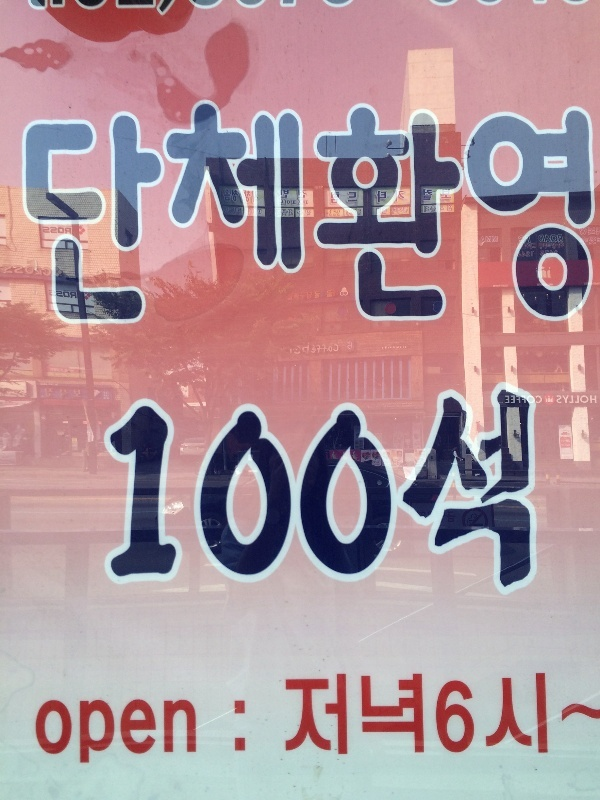text: (33, 99, 48, 330), (49, 99, 64, 330), (65, 99, 80, 330), (81, 99, 96, 330), (97, 99, 112, 330), (113, 99, 128, 330), (129, 99, 144, 330), (145, 99, 160, 330), (161, 99, 176, 330), (177, 99, 192, 330), (193, 99, 208, 330), (209, 99, 224, 330), (225, 99, 240, 330), (241, 99, 256, 330), (257, 99, 272, 330), (273, 99, 288, 330), (289, 99, 304, 330), (305, 99, 320, 330), (321, 99, 336, 330), (337, 99, 352, 330), (353, 99, 368, 330), (369, 99, 384, 330), (385, 99, 400, 330), (401, 99, 416, 330), (417, 99, 432, 330), (433, 99, 448, 330), (449, 99, 464, 330), (465, 99, 480, 330), (481, 99, 496, 330), (497, 99, 512, 330), (513, 99, 528, 330), (529, 99, 544, 330), (545, 99, 560, 330), (561, 99, 576, 330), (577, 99, 592, 330), (113, 380, 128, 597), (129, 380, 144, 597), (145, 380, 160, 597), (161, 380, 176, 597), (177, 380, 192, 597), (193, 380, 208, 597), (209, 380, 224, 597), (225, 380, 240, 597), (241, 380, 256, 597), (257, 380, 272, 597), (273, 380, 288, 597), (289, 380, 304, 597), (305, 380, 320, 597), (321, 380, 336, 597), (337, 380, 352, 597), (353, 380, 368, 597), (369, 380, 384, 597), (385, 380, 400, 597), (401, 380, 416, 597), (417, 380, 432, 597), (433, 380, 448, 597), (449, 380, 464, 597), (465, 380, 480, 597), (481, 380, 496, 597), (497, 380, 512, 597), (513, 380, 528, 597), (20, 99, 32, 330), (529, 380, 541, 597), (105, 380, 112, 597), (593, 99, 599, 330), (289, 672, 304, 764), (305, 672, 320, 764), (321, 672, 336, 764), (337, 672, 352, 764), (353, 672, 368, 764), (369, 672, 384, 764), (385, 672, 400, 764), (401, 672, 416, 764), (417, 672, 432, 764), (433, 672, 448, 764), (449, 672, 464, 764), (465, 672, 480, 764), (481, 672, 496, 764), (497, 672, 512, 764), (513, 672, 528, 764), (529, 672, 544, 764), (545, 672, 560, 764), (561, 672, 576, 764), (577, 672, 592, 764), (49, 697, 64, 768), (65, 697, 80, 768), (81, 697, 96, 768), (97, 697, 112, 768), (113, 697, 128, 768), (129, 697, 144, 768), (145, 697, 160, 768), (161, 697, 176, 768), (177, 697, 192, 768), (36, 697, 48, 768), (593, 672, 600, 764), (193, 697, 199, 768), (241, 698, 248, 758), (284, 672, 288, 764), (234, 698, 240, 758), (225, 188, 240, 206), (241, 188, 256, 206), (385, 188, 400, 204), (17, 264, 32, 278), (33, 264, 48, 278), (433, 188, 448, 202), (337, 192, 352, 205), (305, 343, 320, 355), (321, 343, 336, 355), (49, 387, 64, 399), (65, 387, 80, 399), (289, 189, 304, 201), (290, 343, 304, 355), (289, 290, 304, 301), (305, 290, 320, 301), (225, 206, 240, 217), (241, 206, 256, 217), (5, 264, 16, 278), (513, 394, 528, 404), (529, 394, 544, 404), (545, 394, 560, 404), (561, 394, 576, 404), (577, 394, 592, 404), (49, 289, 64, 299), (545, 234, 560, 243), (321, 290, 333, 301), (277, 189, 288, 201), (376, 188, 384, 204), (423, 188, 432, 202), (481, 235, 496, 243), (513, 243, 528, 251), (580, 227, 592, 237), (49, 227, 64, 235), (65, 289, 77, 299), (433, 205, 448, 213), (289, 200, 304, 207), (581, 238, 592, 247), (518, 235, 528, 244), (545, 243, 560, 249), (276, 210, 288, 217), (518, 250, 528, 258), (545, 251, 558, 257), (353, 209, 362, 217), (392, 206, 400, 215), (505, 394, 512, 404), (593, 227, 600, 237), (331, 192, 336, 205), (353, 192, 358, 205), (401, 188, 405, 204), (376, 208, 384, 216), (424, 205, 432, 213), (593, 238, 600, 247), (401, 206, 408, 215), (529, 243, 536, 251), (65, 227, 72, 235), (280, 200, 288, 207), (305, 210, 312, 218), (257, 206, 262, 217), (538, 234, 544, 243), (347, 341, 352, 351), (529, 250, 535, 258), (298, 210, 304, 218), (330, 209, 336, 217), (385, 346, 400, 349), (49, 264, 52, 278), (449, 188, 452, 202), (593, 394, 597, 404), (43, 227, 48, 235), (347, 209, 352, 217), (45, 387, 48, 399), (257, 188, 259, 206), (305, 189, 308, 201), (337, 209, 341, 217), (539, 243, 544, 249), (289, 210, 293, 217), (305, 200, 309, 207), (561, 234, 564, 243), (337, 343, 339, 355), (449, 205, 452, 213), (401, 346, 407, 349), (529, 235, 531, 244), (561, 243, 564, 249), (541, 251, 544, 257), (385, 208, 387, 216), (81, 387, 82, 399), (223, 206, 224, 217), (497, 235, 498, 243), (382, 346, 384, 349)
